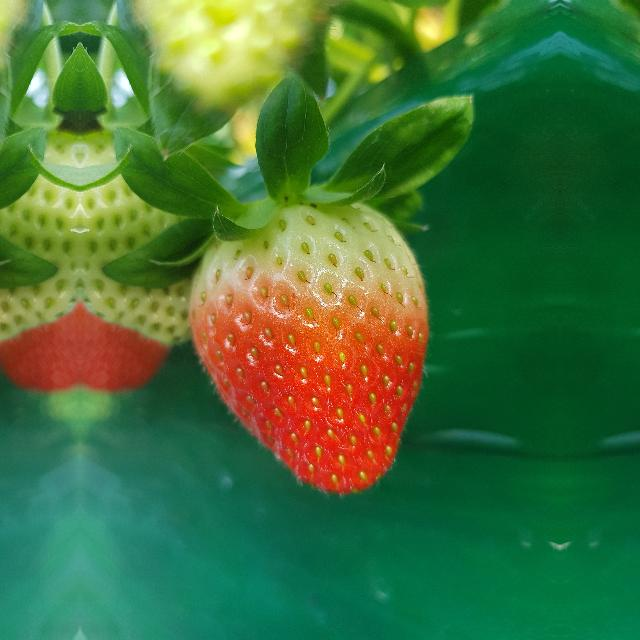Health_75: (186, 201, 430, 497)
